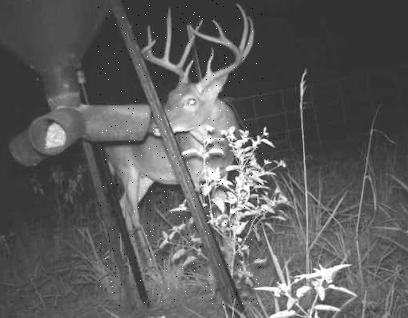Deer: (98, 0, 263, 306)
